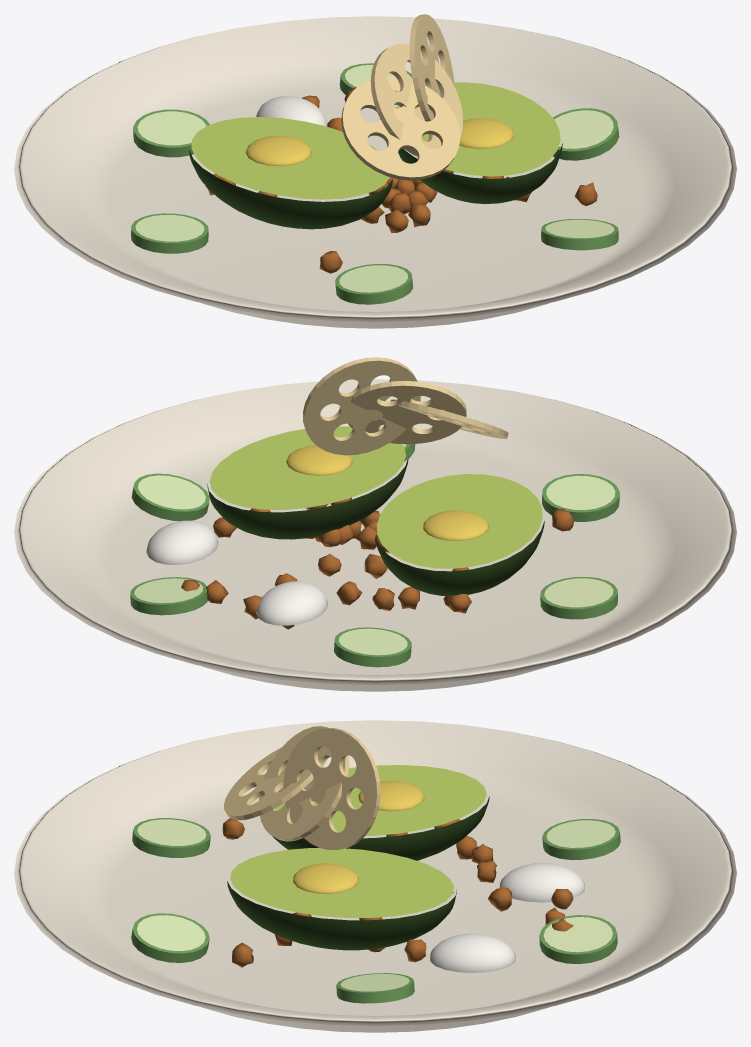
Rendered from gado-gado.glb.
3 renders of one model, top to bottom at view 1: azimuth 30°, elevation 25°; view 2: azimuth 150°, elevation 25°; view 3: azimuth 270°, elevation 25°, orthographic.
Parts seen in each view (by area): view 1: ceramic, avocado, lotus_chip, cucumber_flesh, avocado_skin, cucumber, peanut_relish, egg_yolk, porcelain; view 2: ceramic, avocado, lotus_chip, cucumber_flesh, avocado_skin, cucumber, peanut_relish, porcelain, egg_yolk; view 3: ceramic, avocado, lotus_chip, avocado_skin, cucumber_flesh, cucumber, porcelain, peanut_relish, egg_yolk.
Boxes of the visible parts, x1,y1,x2,y2 form: ceramic: (14, 16, 736, 328); avocado: (191, 82, 560, 199); lotus_chip: (341, 14, 462, 180); cucumber_flesh: (135, 64, 614, 292); avocado_skin: (189, 143, 562, 229); cucumber: (131, 63, 619, 304); peanut_relish: (205, 87, 597, 273); egg_yolk: (245, 118, 514, 166); porcelain: (256, 96, 327, 126); ceramic: (14, 379, 736, 691); avocado: (209, 426, 542, 568); lotus_chip: (303, 357, 508, 455); cucumber_flesh: (134, 425, 615, 655); avocado_skin: (207, 457, 544, 595); cucumber: (130, 424, 619, 667); peanut_relish: (181, 497, 574, 629); porcelain: (146, 520, 327, 625); egg_yolk: (286, 445, 488, 540); ceramic: (14, 720, 736, 1032); avocado: (230, 765, 486, 917); lotus_chip: (224, 726, 380, 849); avocado_skin: (227, 796, 489, 950); cucumber_flesh: (137, 819, 615, 991); cucumber: (131, 818, 620, 1003); porcelain: (430, 863, 584, 972); peanut_relish: (222, 818, 573, 967); egg_yolk: (293, 780, 424, 893).
Bounding box in the file's own units: 0.26 × 0.0797 × 0.26.
